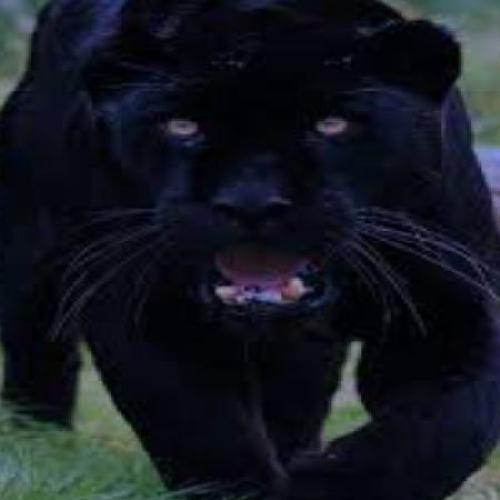panther-endangered: (68, 3, 493, 442)
